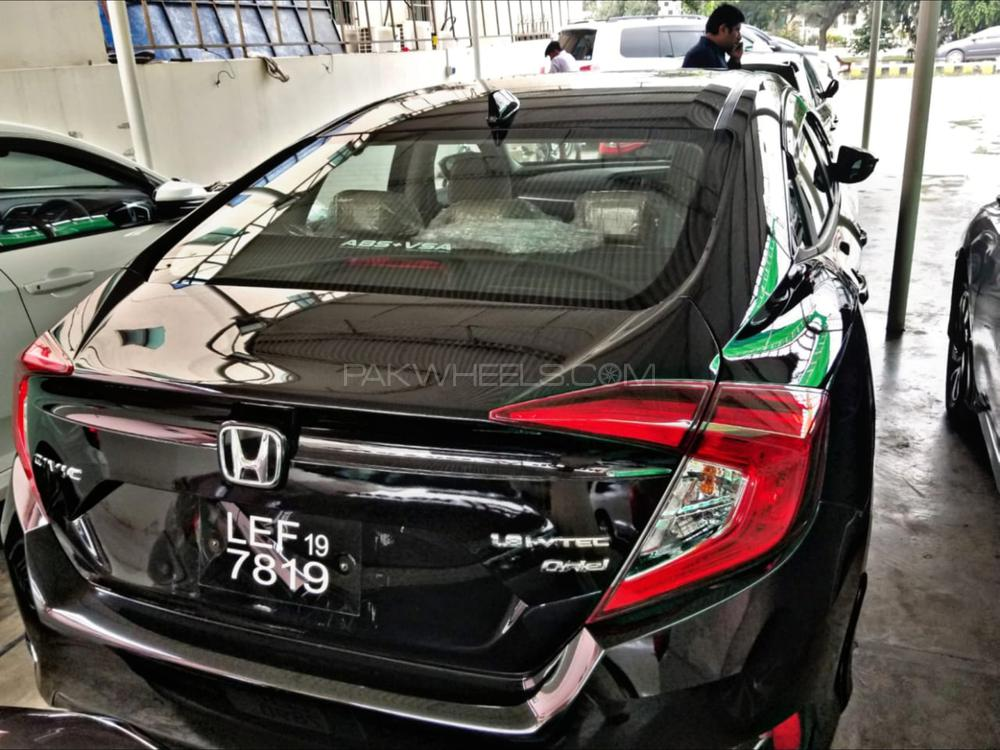license plate: (204, 502, 356, 605)
